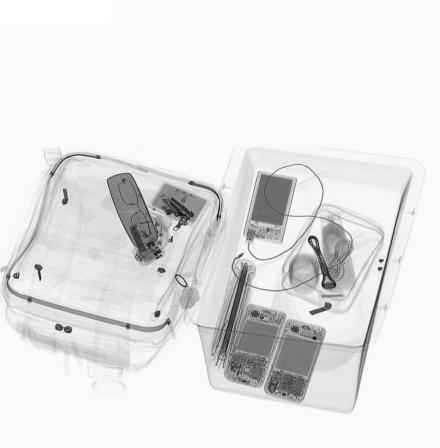Powerbank: (241, 169, 300, 247)
